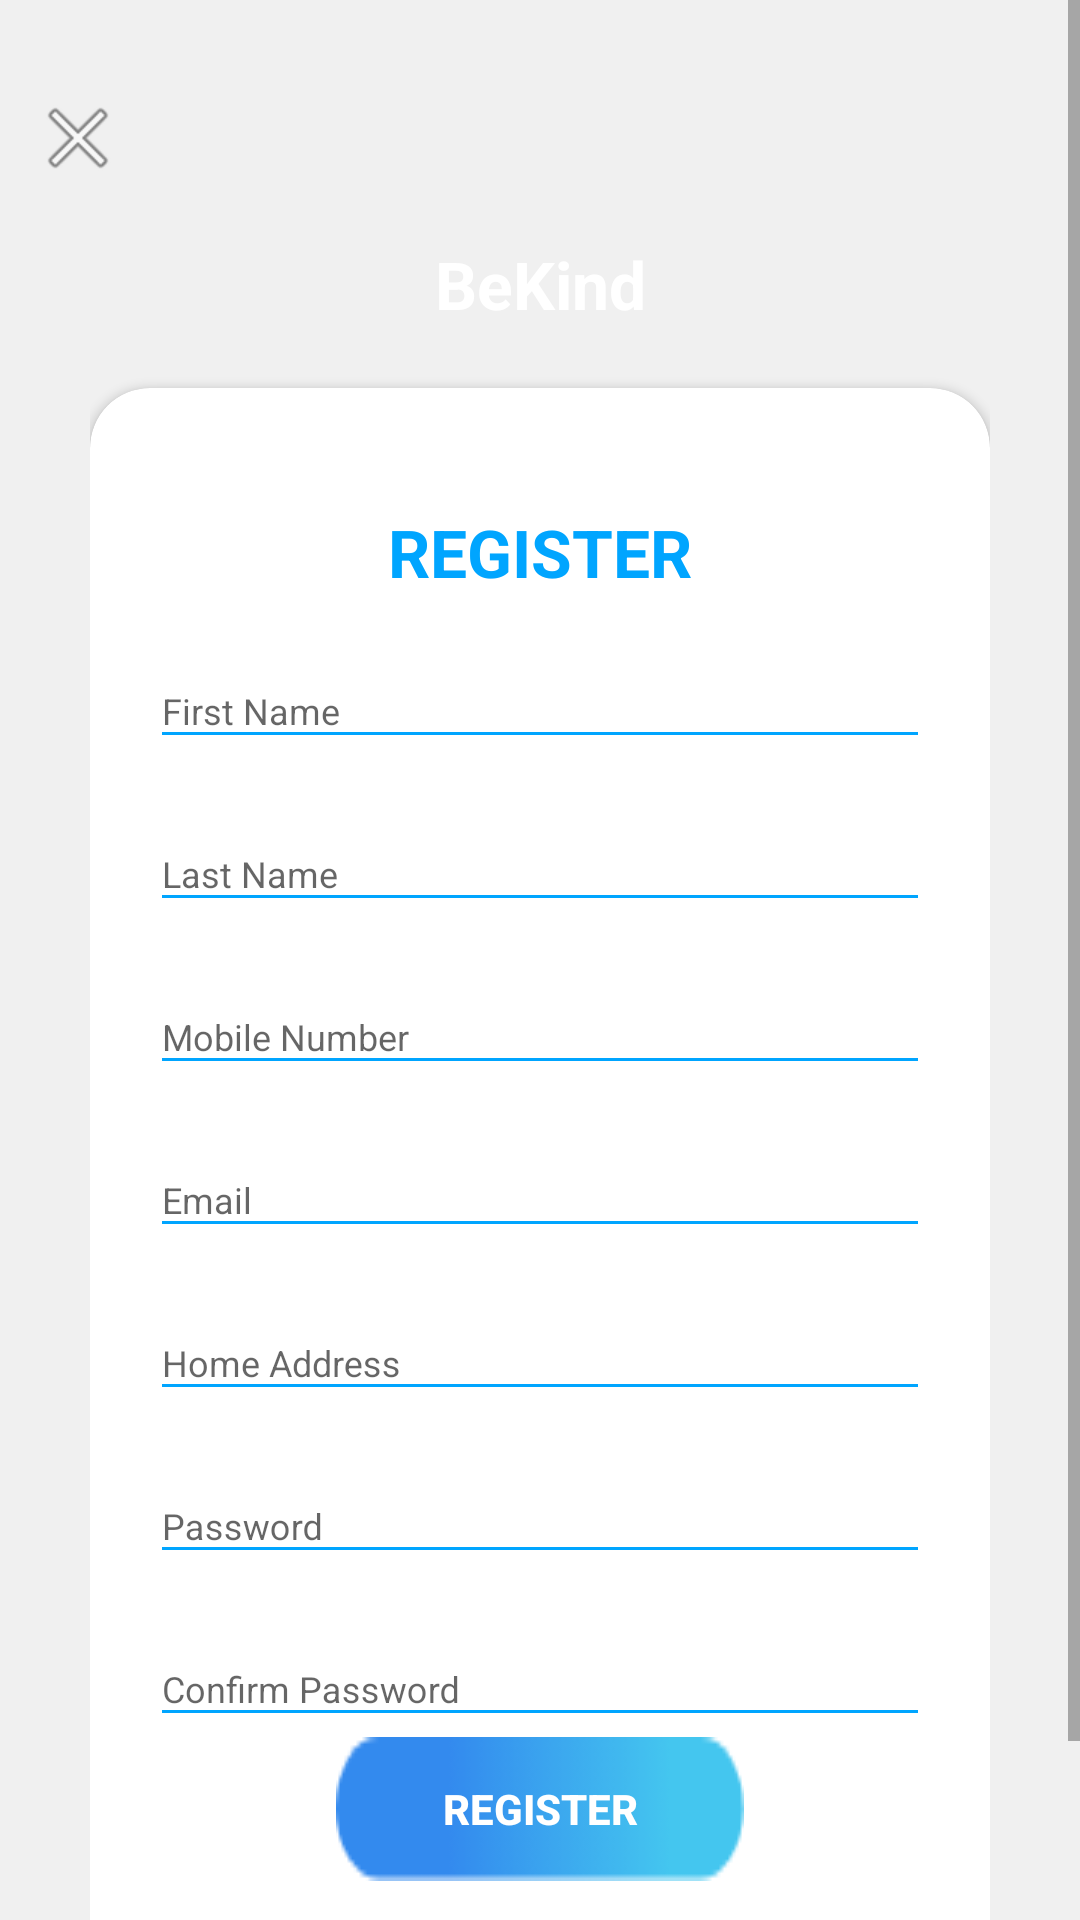

Screen size 1080 x 1920. Icon name, then its box in pixels as (x1, y1, x2, y2):
close clear cancel: (48, 108, 108, 168)
